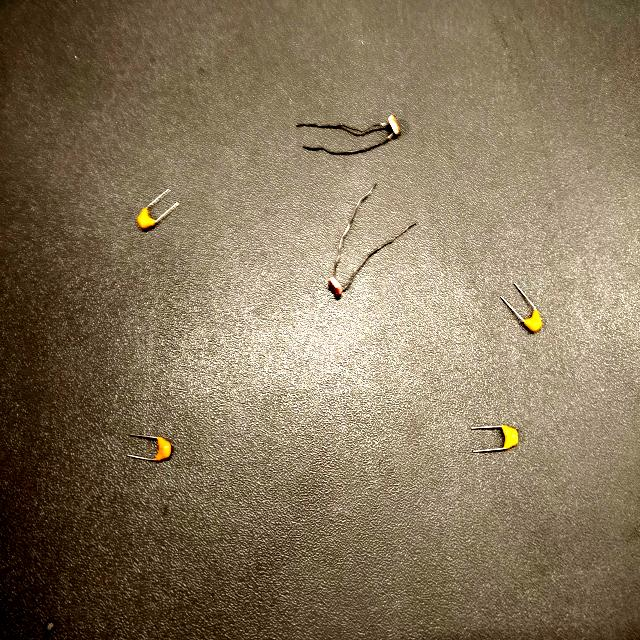capacitor: (135, 207, 157, 232), (524, 310, 542, 333), (155, 437, 171, 460), (503, 425, 518, 449)
